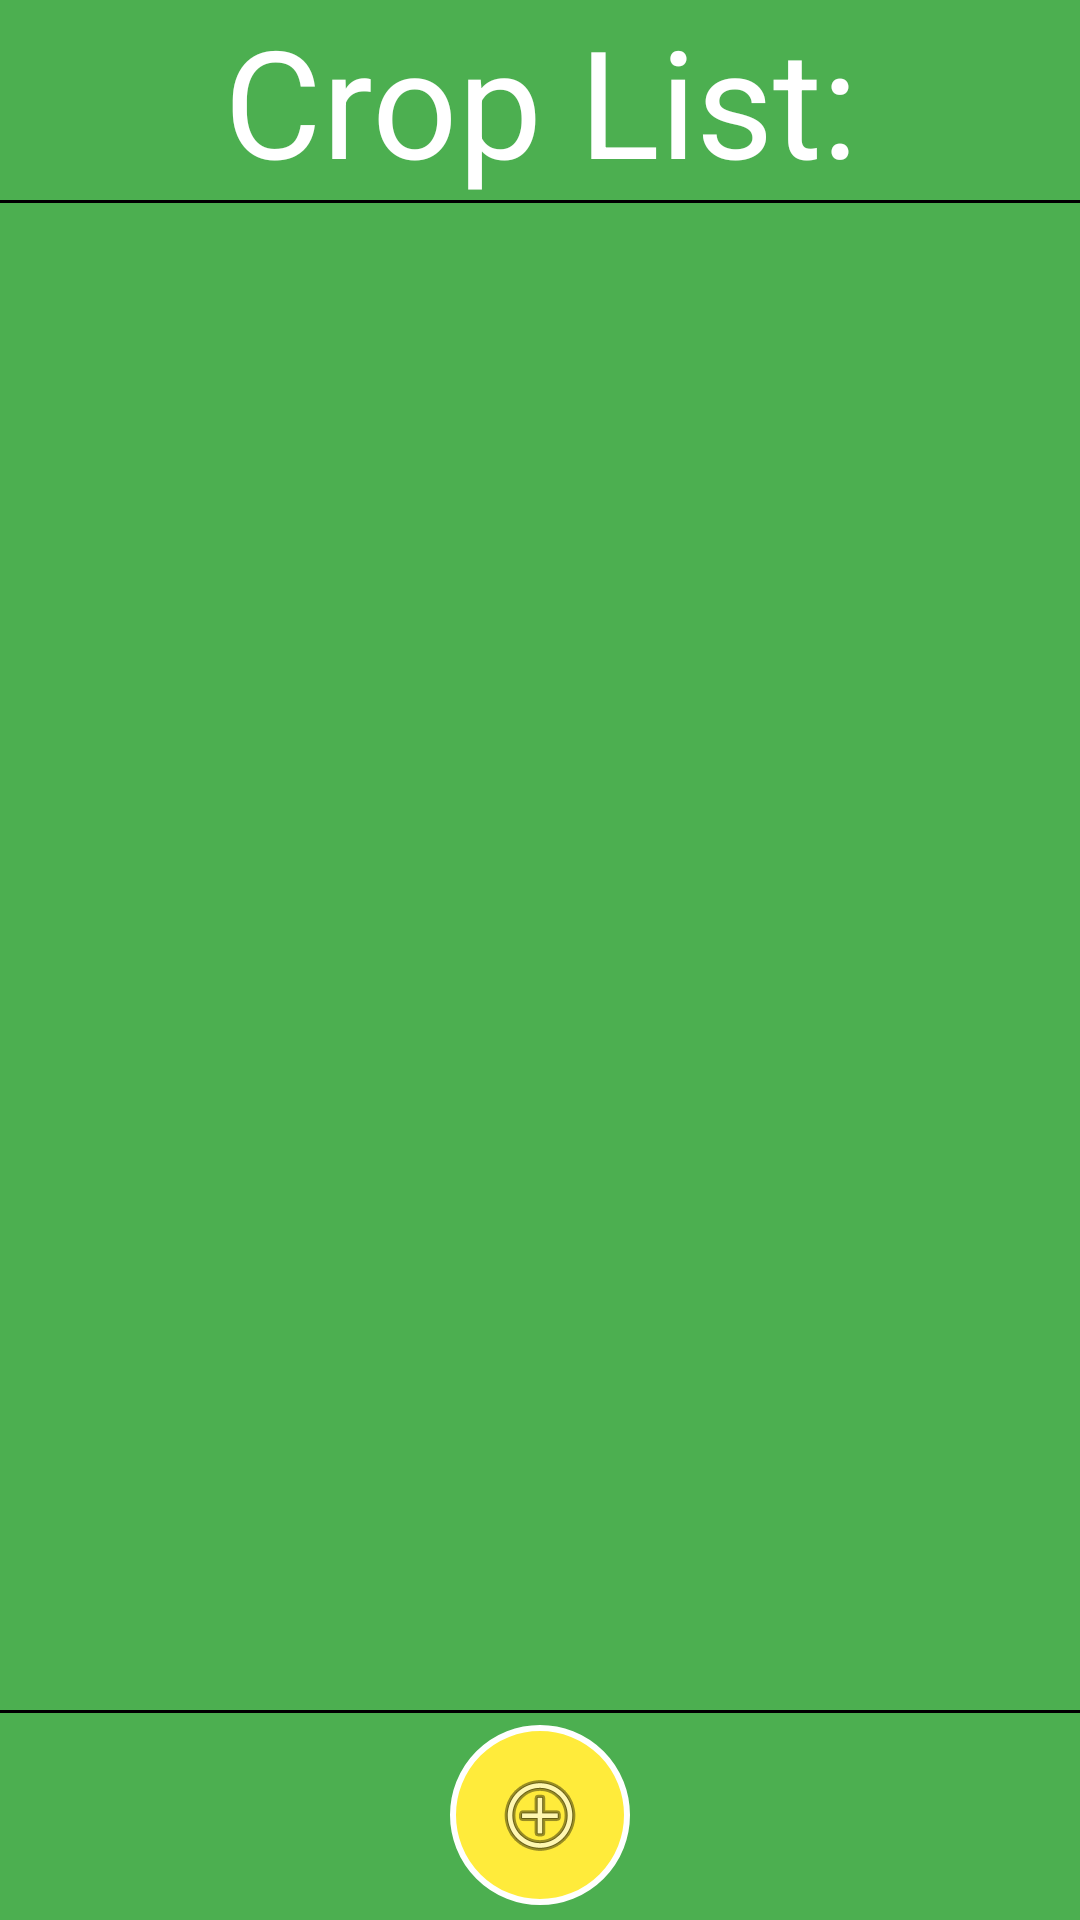

Named icons in this screenshot (1080px×1920px) and their bounding boxes, rect(x1, y1, x2, y2):
add: rect(450, 1725, 630, 1905)
